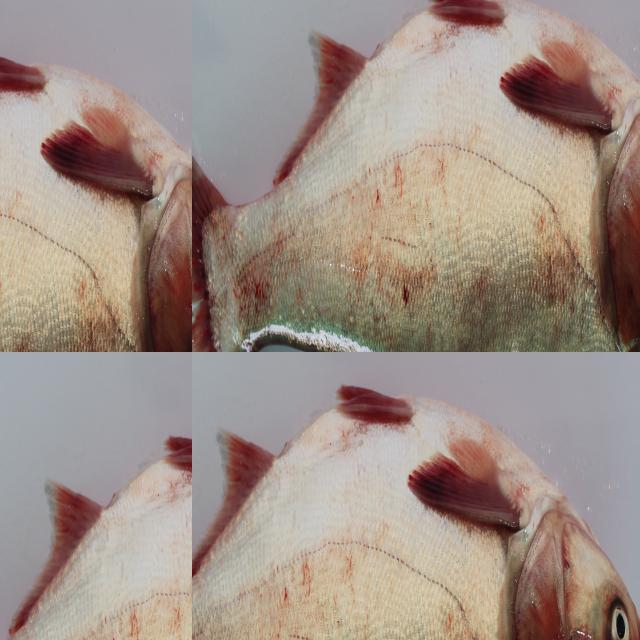fish: (192, 354, 640, 640)
